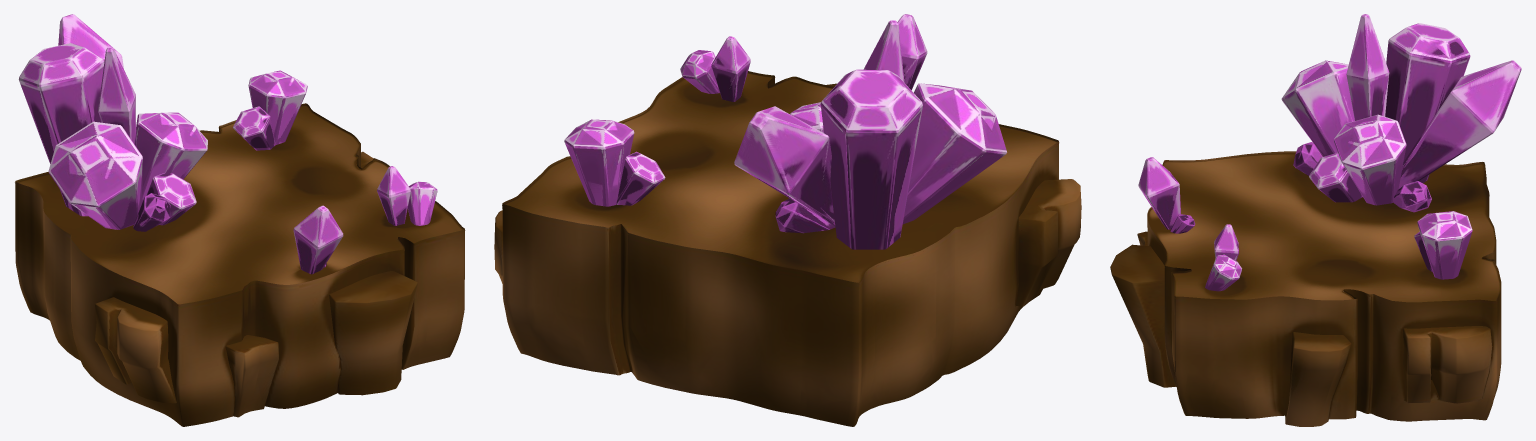
Rendered from land-A.glb.
3 renders of one model, left to right at view 1: azimuth 30°, elevation 25°; view 2: azimuth 150°, elevation 25°; view 3: azimuth 270°, elevation 25°, orthographic. The views are drawn at different scales.
Parts seen in each view (by area): view 1: Land; view 2: Land; view 3: Land.
Part boxes in pixels (x1=…): Land: x1=15, y1=14, x2=465, y2=426; Land: x1=494, y1=14, x2=1081, y2=426; Land: x1=1110, y1=14, x2=1521, y2=426.
Bounding box in the file's own units: 9.26 × 7.13 × 9.28.
1 material, 1 textured.
